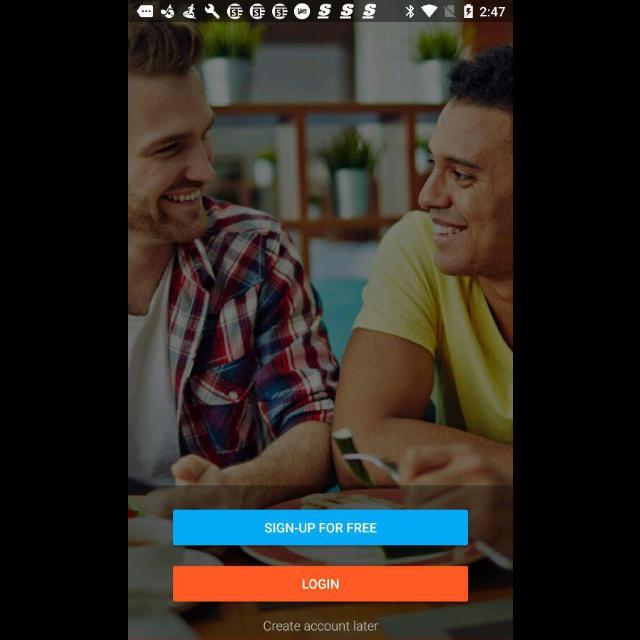backgroundimage: (128, 22, 512, 640)
text: (262, 620, 378, 632)
textbutton: (172, 510, 468, 546), (172, 566, 468, 602)
uppertaskbar: (128, 1, 512, 23)
